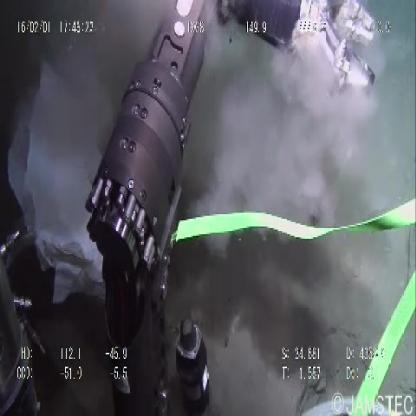Rov: (85, 1, 377, 404)
Rác: (6, 34, 121, 305)
